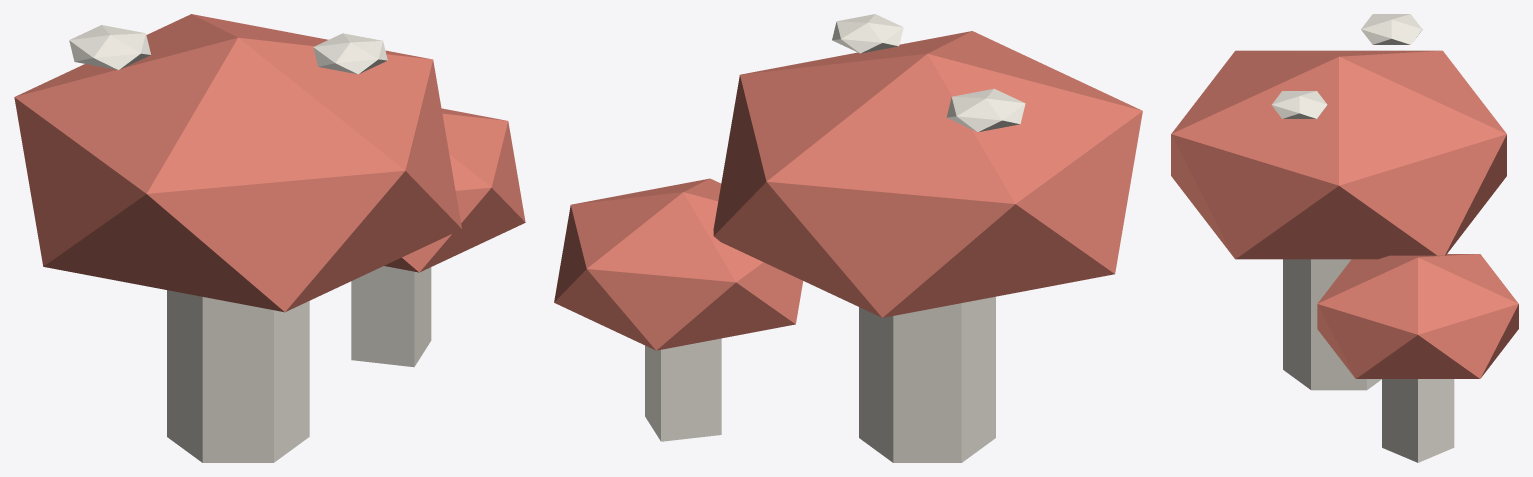
File: mushroom.glb
3 views of the same model, side by side, from view 1: azimuth 30°, elevation 25°; view 2: azimuth 150°, elevation 25°; view 3: azimuth 270°, elevation 25° (orthographic). The views are drawn at different scales.
Parts seen in each view (by area): view 1: cap, stem, cap_small, stem_small, spot_a, spot_b; view 2: cap, cap_small, stem, stem_small, spot_a, spot_b; view 3: cap, cap_small, stem, stem_small, spot_a, spot_b.
Part boxes in pixels (x1=…): cap: x1=14, y1=14, x2=461, y2=312; stem: x1=167, y1=290, x2=309, y2=462; cap_small: x1=384, y1=108, x2=525, y2=272; stem_small: x1=351, y1=266, x2=431, y2=367; spot_a: x1=69, y1=25, x2=150, y2=70; spot_b: x1=313, y1=33, x2=387, y2=74; cap: x1=713, y1=31, x2=1142, y2=317; cap_small: x1=554, y1=178, x2=803, y2=350; stem: x1=859, y1=296, x2=995, y2=462; stem_small: x1=645, y1=338, x2=721, y2=441; spot_a: x1=946, y1=88, x2=1025, y2=132; spot_b: x1=832, y1=14, x2=903, y2=53; cap: x1=1171, y1=50, x2=1506, y2=259; cap_small: x1=1317, y1=254, x2=1518, y2=378; stem: x1=1283, y1=259, x2=1381, y2=390; stem_small: x1=1382, y1=379, x2=1454, y2=462; spot_a: x1=1361, y1=14, x2=1422, y2=44; spot_b: x1=1272, y1=91, x2=1327, y2=118.
Bounding box in the file's own units: 0.7093 × 0.5265 × 0.5283.
